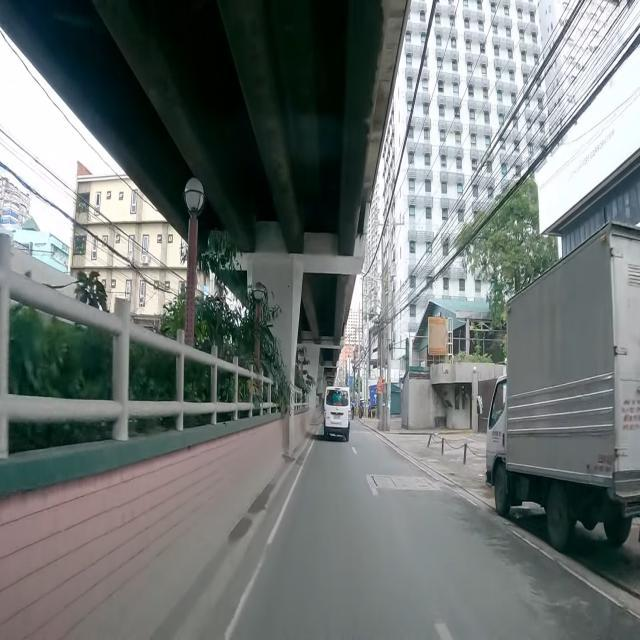car: (323, 386, 351, 442)
truck: (485, 224, 640, 550)
